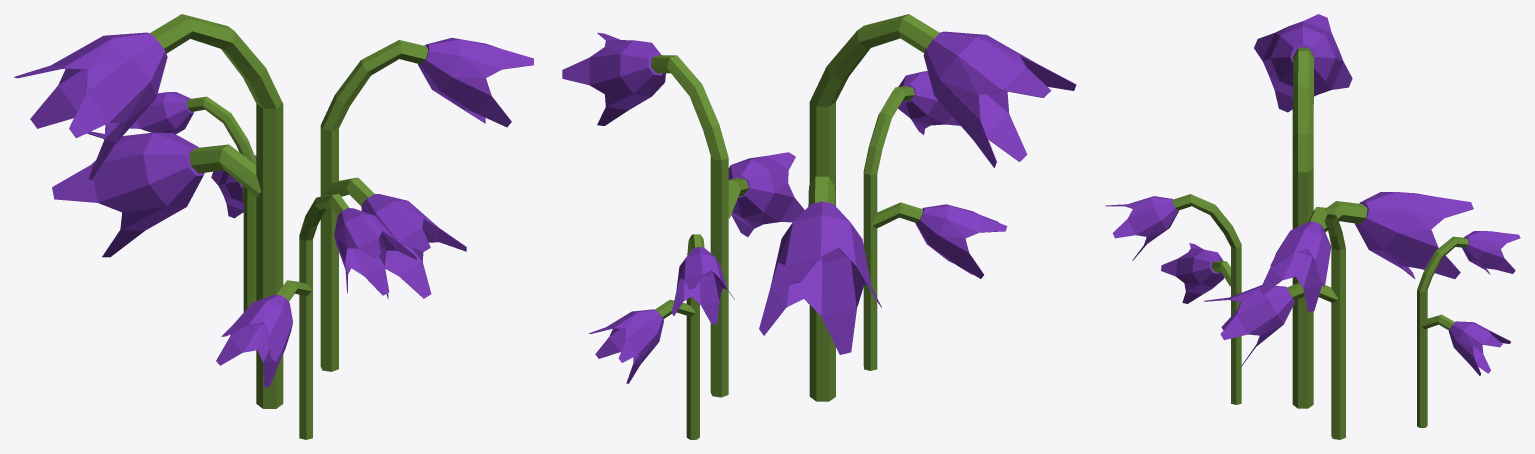
File: Bell Flower.glb
3 views of the same model, side by side, from view 1: azimuth 30°, elevation 25°; view 2: azimuth 150°, elevation 25°; view 3: azimuth 270°, elevation 25° (orthographic). The views are drawn at different scales.
Visible parts, largest first — view 1: Bell_flowers_Circle.004; view 2: Bell_flowers_Circle.004; view 3: Bell_flowers_Circle.004.
Boxes of the visible parts, bbox=[...] form: Bell_flowers_Circle.004: bbox=[14, 14, 533, 439]; Bell_flowers_Circle.004: bbox=[562, 14, 1076, 439]; Bell_flowers_Circle.004: bbox=[1105, 14, 1520, 439].
Bounding box in the file's own units: 1.4 × 1.1 × 1.29.
